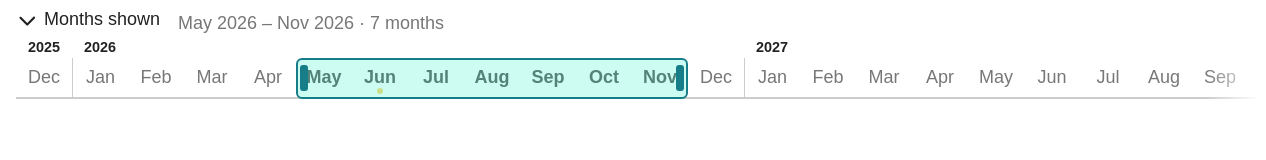
it: FilterLayout › keeps the range collapsed on this device only
The image size is (1266, 160).
Expected: the element with class "month-cell" showing "2025 Dec" is shown, [16,39,72,99]
Click the button "Months shown".
click(88, 20)  # box [16,9,160,30]
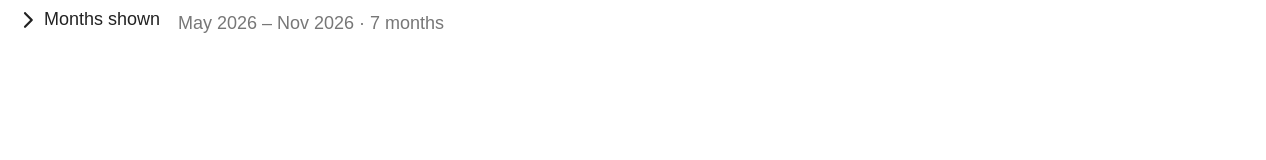
Result: the element with class "month-cell" is gone
